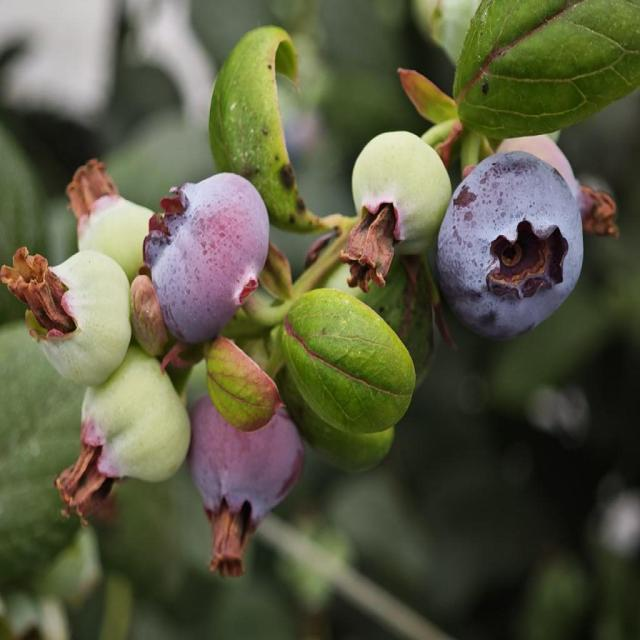RipeBlueBerry: (436, 150, 586, 344)
Semi-RipeBlueBerry: (142, 169, 272, 345), (189, 392, 309, 534)
UnripeBlueBerry: (4, 245, 134, 390), (78, 348, 188, 487), (351, 128, 453, 258)
